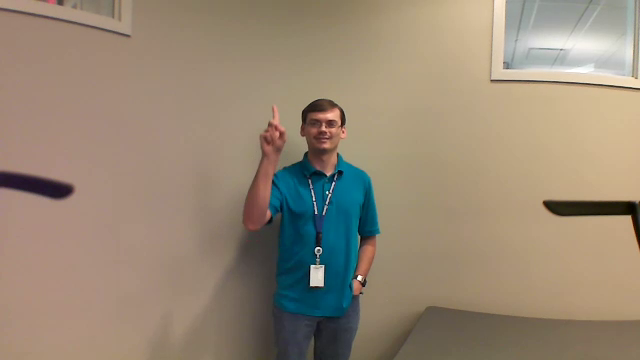up: (255, 98, 288, 158)
